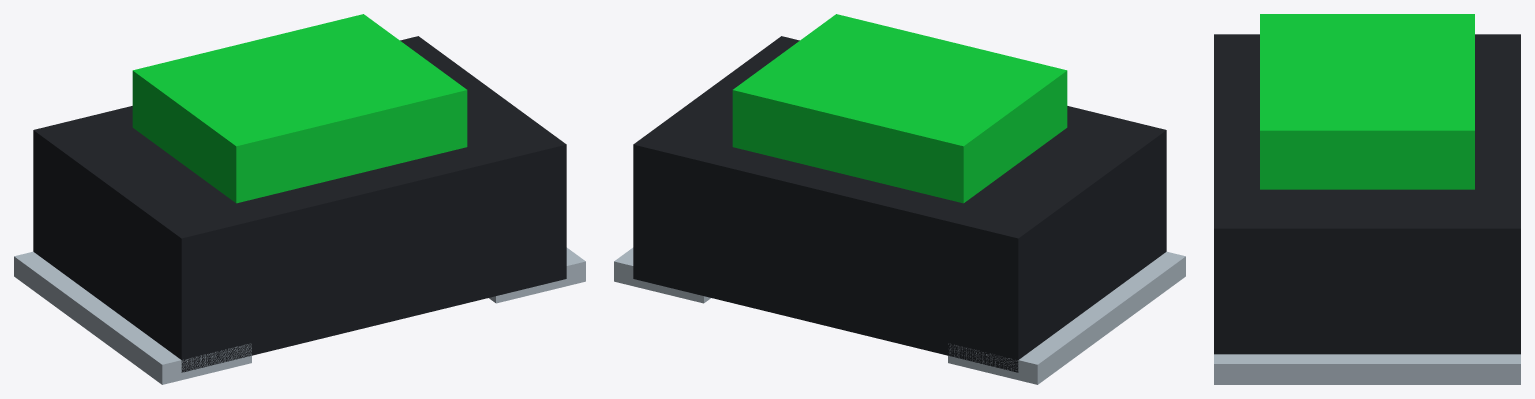
Rendered from 094_L106_LED1.fbx.
The picture shows the model from 3 angles, left to right: view 1: azimuth 30°, elevation 25°; view 2: azimuth 150°, elevation 25°; view 3: azimuth 270°, elevation 25°; orthographic projection. The views are drawn at different scales.
Parts seen in each view (by area): view 1: 094_L106_LED1_000, 094_L106_LED1_001, 094_L106_LED1_002, 094_L106_LED1_003; view 2: 094_L106_LED1_000, 094_L106_LED1_001, 094_L106_LED1_002, 094_L106_LED1_003; view 3: 094_L106_LED1_000, 094_L106_LED1_001, 094_L106_LED1_003.
Boxes of the visible parts, left/top/right/bottom form: 094_L106_LED1_000: left=33, top=36, right=566, bottom=372; 094_L106_LED1_001: left=132, top=14, right=467, bottom=203; 094_L106_LED1_002: left=14, top=251, right=251, bottom=384; 094_L106_LED1_003: left=489, top=247, right=585, bottom=303; 094_L106_LED1_000: left=633, top=36, right=1166, bottom=372; 094_L106_LED1_001: left=732, top=14, right=1067, bottom=203; 094_L106_LED1_002: left=948, top=251, right=1185, bottom=384; 094_L106_LED1_003: left=614, top=247, right=710, bottom=303; 094_L106_LED1_000: left=1214, top=34, right=1520, bottom=354; 094_L106_LED1_001: left=1260, top=14, right=1474, bottom=189; 094_L106_LED1_003: left=1214, top=354, right=1520, bottom=384.
Bounding box in the file's own units: 0.0033 × 0.002 × 0.00148.
